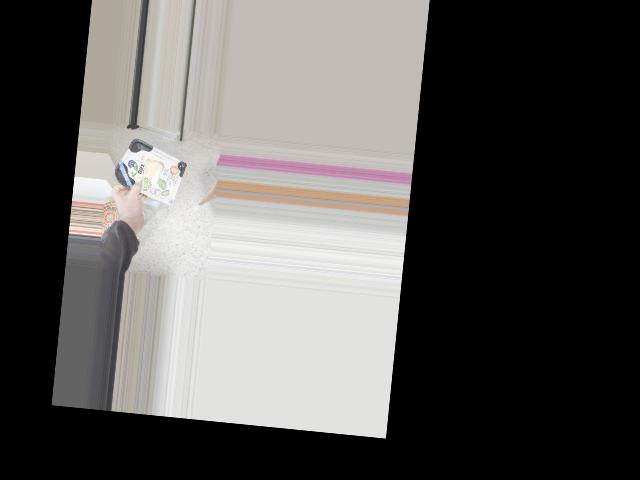cheese: (115, 146, 186, 200)
